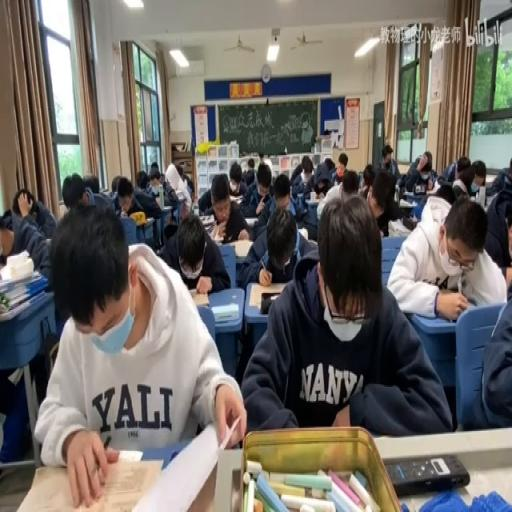calculator: (130, 441, 190, 471), (210, 300, 238, 322), (226, 238, 253, 258), (116, 448, 142, 461), (190, 290, 208, 307), (200, 216, 215, 232), (155, 202, 171, 212), (243, 214, 258, 224), (229, 194, 242, 204), (298, 226, 308, 239), (398, 198, 414, 206), (306, 196, 320, 205), (176, 189, 186, 201), (483, 175, 496, 183), (100, 186, 110, 196), (426, 184, 436, 194), (150, 182, 159, 193), (142, 216, 153, 225), (297, 190, 304, 198)
paper: (35, 205, 241, 508), (246, 194, 450, 436), (0, 191, 59, 462), (462, 256, 510, 432), (190, 172, 251, 245), (482, 161, 511, 269), (128, 168, 166, 247), (362, 166, 401, 236), (262, 169, 301, 238), (398, 148, 434, 192), (318, 178, 346, 212), (378, 142, 400, 181), (61, 174, 86, 208), (0, 208, 15, 258), (13, 186, 36, 216), (468, 158, 486, 195), (227, 161, 242, 196), (432, 184, 455, 206), (340, 168, 358, 195), (438, 156, 456, 182), (117, 182, 133, 209), (162, 180, 178, 204), (83, 174, 99, 196), (456, 155, 470, 178), (290, 162, 303, 186), (259, 152, 272, 174), (183, 175, 194, 200), (134, 171, 148, 189), (110, 174, 120, 194), (149, 165, 159, 183), (243, 168, 255, 183), (238, 156, 248, 174), (323, 156, 335, 170), (302, 160, 312, 176), (363, 171, 373, 186), (334, 168, 344, 182), (175, 164, 184, 179), (338, 154, 347, 169), (421, 156, 430, 170), (358, 182, 367, 195), (246, 156, 254, 168), (158, 174, 165, 184), (322, 128, 331, 134), (509, 161, 512, 176), (256, 152, 262, 159)
person: (384, 452, 470, 494), (259, 292, 280, 314), (402, 214, 416, 230), (437, 286, 457, 296)
